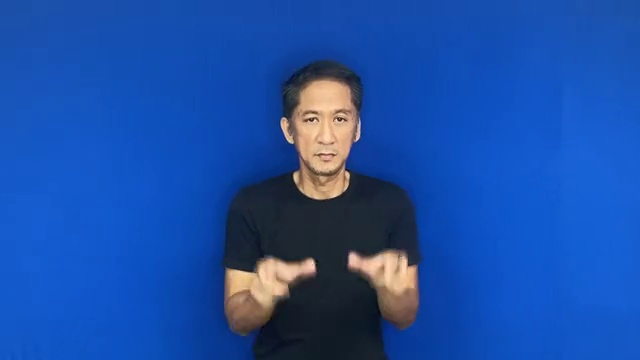crab: (246, 244, 417, 315)
